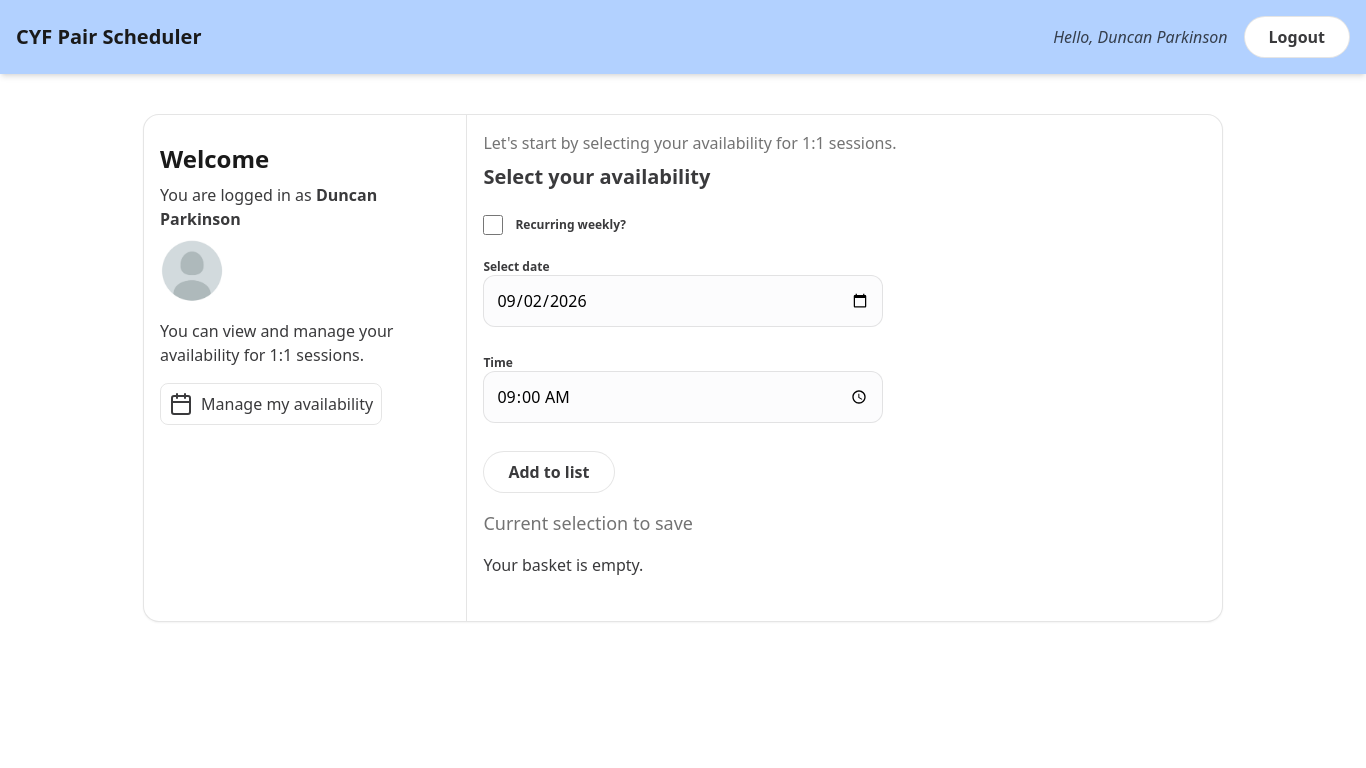
Test case: Volunteer flow › allows volunteer to remove an item from the basket
Type "2026-05-20" into the date field labelled "Select date" at [683, 301], box [483,275,883,327]
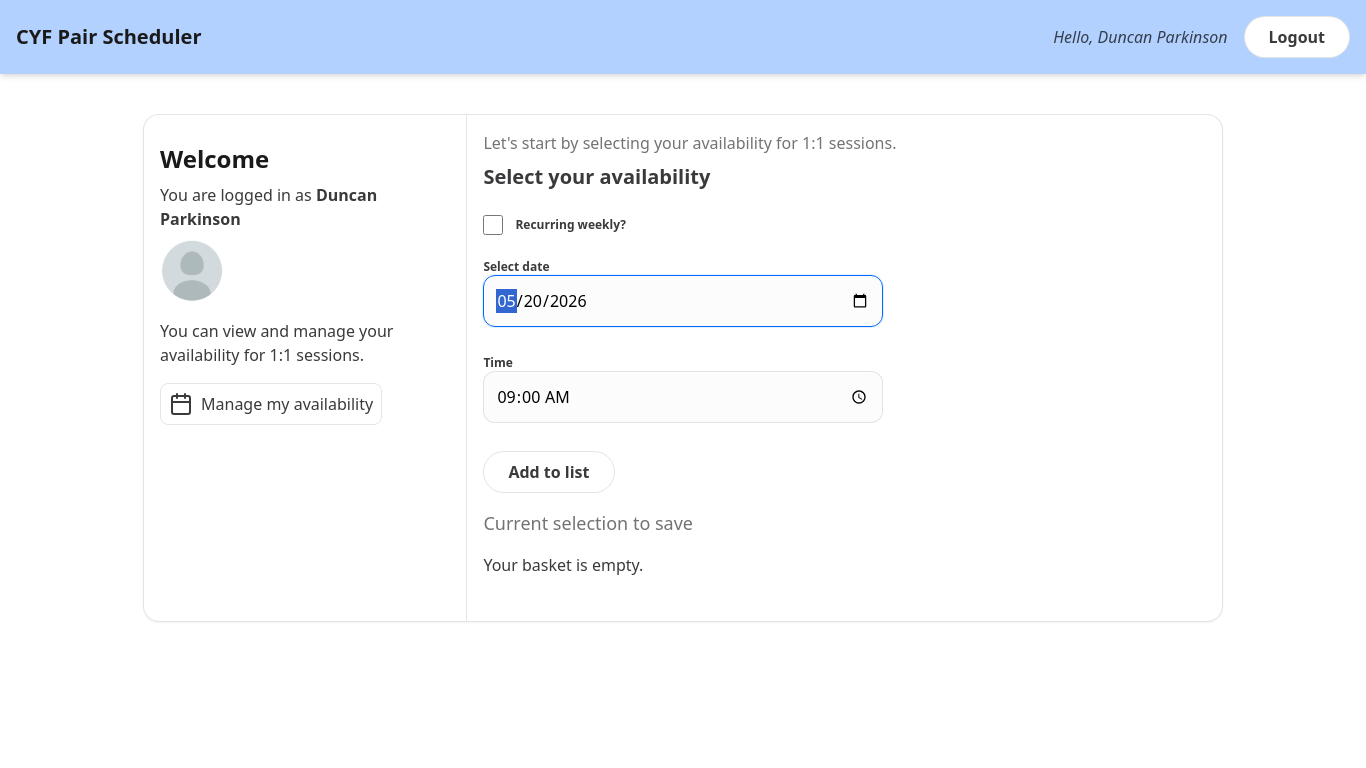
Expected: the date field labelled "Select date" holds "2026-05-20", [483,275,883,327]
Replace the text in the time field labelled "Time" with "10:00" at [683, 397], box [483,371,883,423]
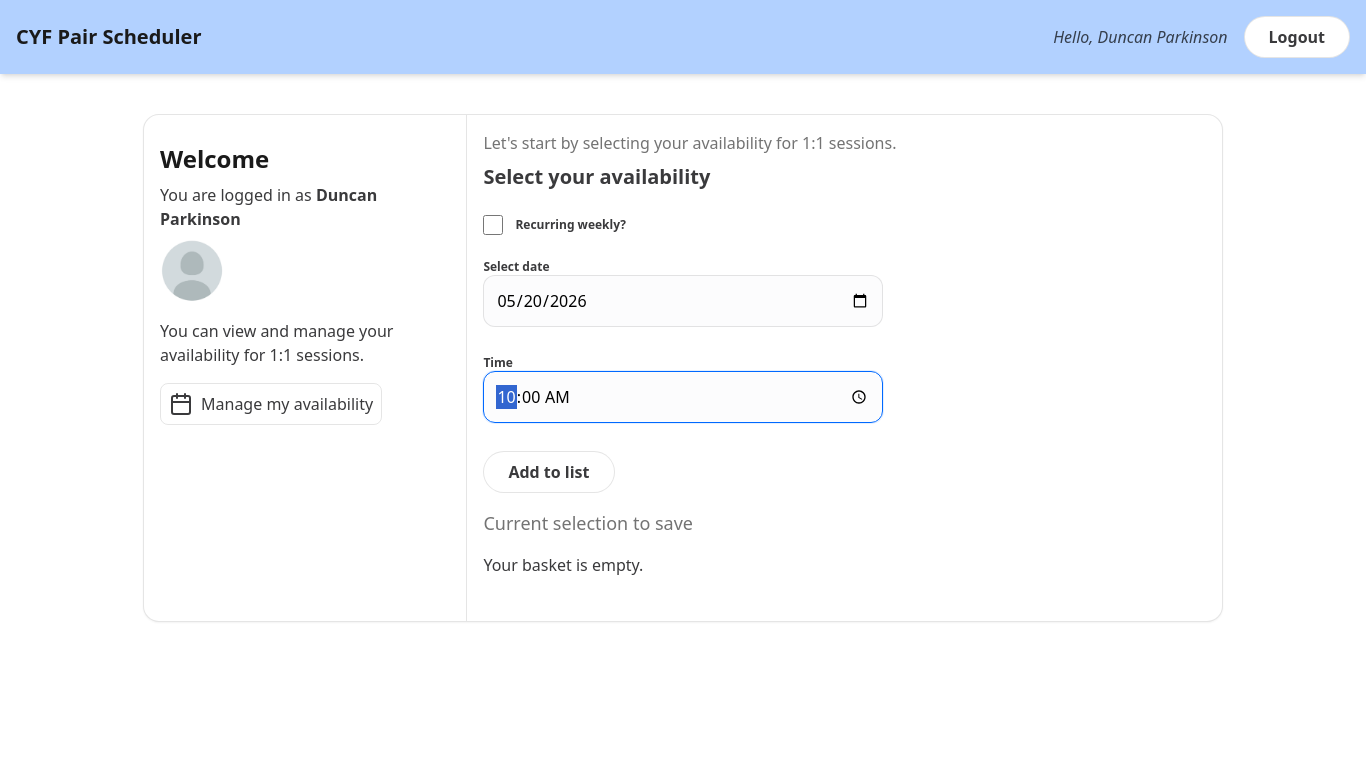
Expected: the time field labelled "Time" holds "10:00", [483,371,883,423]
Click the button "Add to list" at [549, 472], box [483,451,614,493]
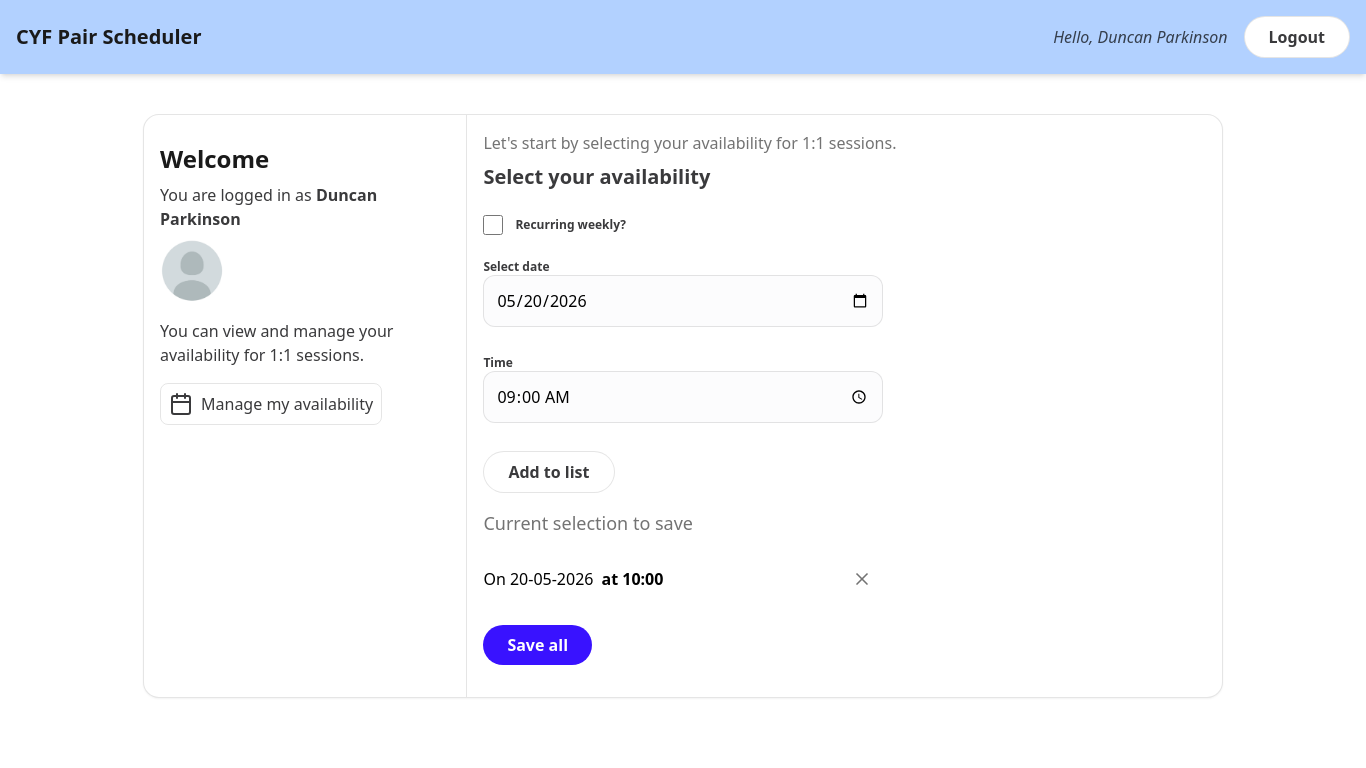
Click the icon with class "basket-delete-btn" at [863, 579], box [853,569,873,589]
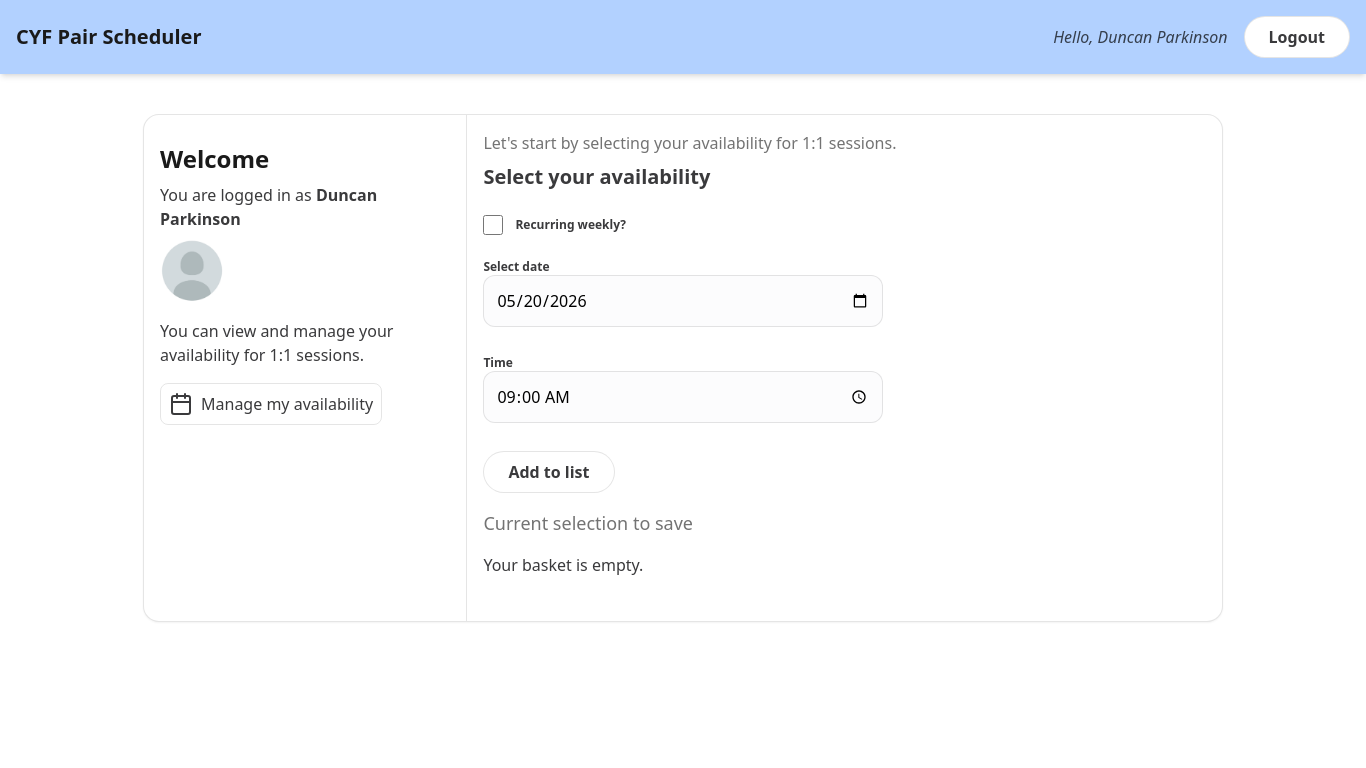
Expected: the icon with class "basket-delete-btn" is gone
Expected: the button "Save all" is gone
